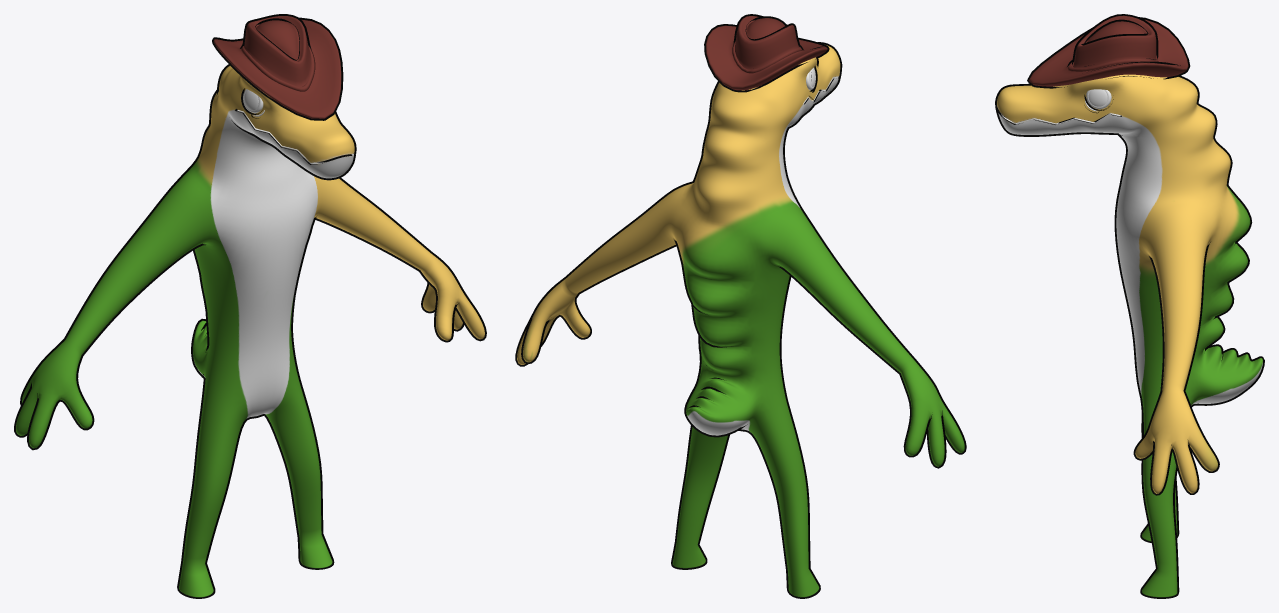
File: gummigoo (1).glb
3 renders of one model, left to right at view 1: azimuth 30°, elevation 25°; view 2: azimuth 150°, elevation 25°; view 3: azimuth 270°, elevation 25°, orthographic. The views are drawn at different scales.
Parts seen in each view (by area): view 1: Plane.003_0, Plane.009_1; view 2: Plane.003_0, Plane.009_1; view 3: Plane.003_0, Plane.009_1.
Boxes of the visible parts, box(x1,y1,x2,y2) form: Plane.003_0: box(14, 64, 486, 598); Plane.009_1: box(212, 14, 343, 120); Plane.003_0: box(515, 42, 966, 598); Plane.009_1: box(704, 14, 829, 92); Plane.003_0: box(995, 74, 1264, 598); Plane.009_1: box(1027, 14, 1190, 88).
Bounding box in the file's own units: 171 × 203 × 91.53.
Materials: 4 (2 with a texture image).
